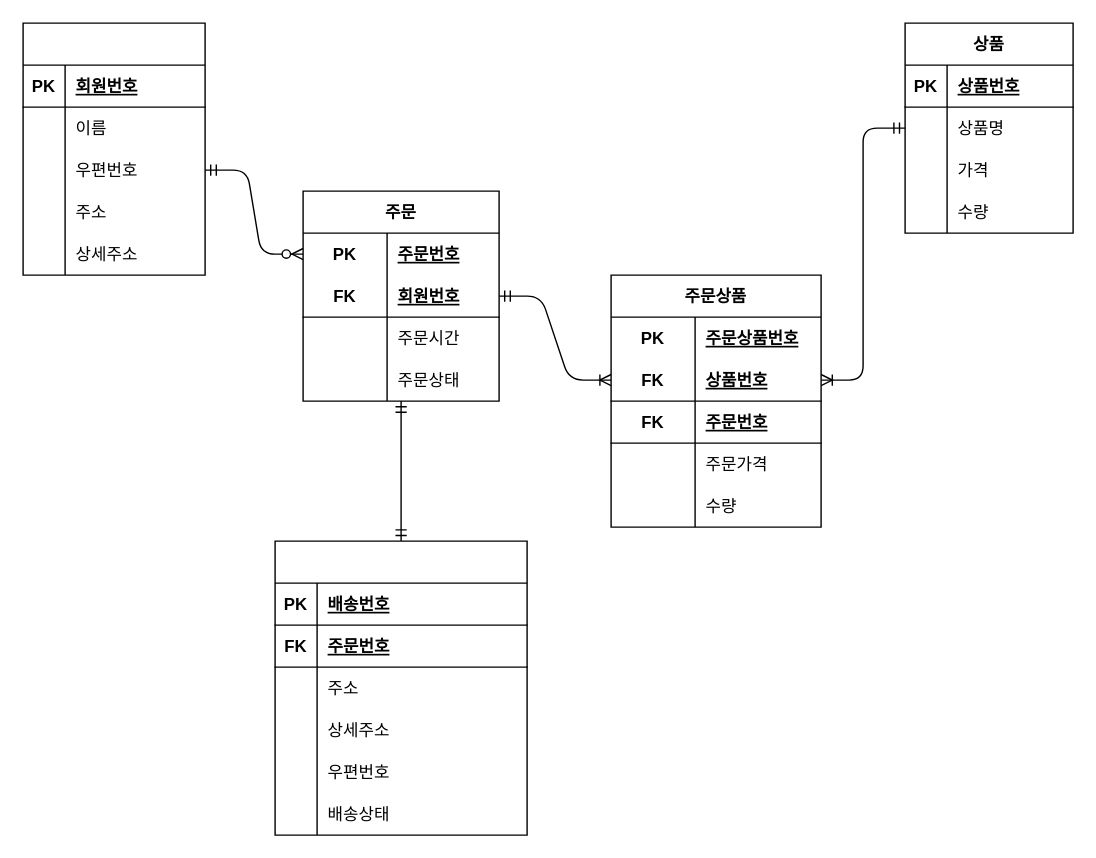
This 1096x858 diagram has some shape labels left out. The shapes that lost their labels are listed below. From the top down, each one's box as (x1, y1, x2, y2) in pixels, then its label:
(22, 22, 205, 275): 회원
(274, 540, 527, 835): 배송
